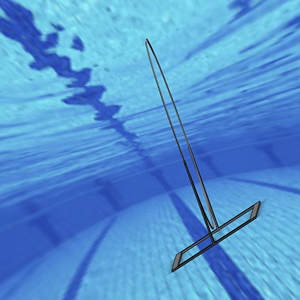circle: (141, 38, 260, 272)
